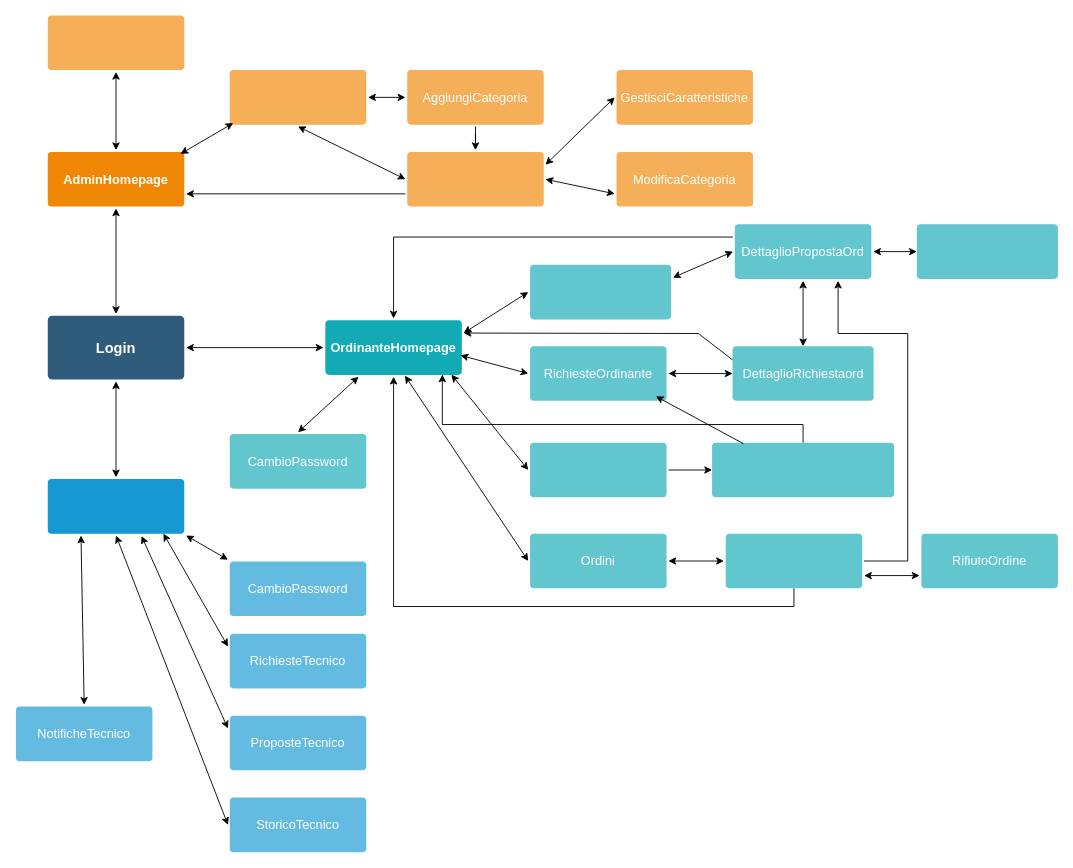
The diagram is 1073 pixels wide and 868 high, and some of its shapes have lost their labels. The shapes that lost their labels are listed below. From the top down, each one's box as (x1, y1, x2, y2) in pixels, then its label:
(47, 15, 184, 70): GestioneUtenti
(229, 70, 366, 124): GestioneCategorie
(407, 152, 543, 206): CategoriaController
(916, 224, 1057, 278): MotivaRifiuto
(530, 264, 671, 319): ProposteOrdinante
(530, 442, 666, 497): NuovaRichiesta
(712, 442, 894, 497): NuovaRichiestaCaratteristiche
(47, 479, 184, 533): TecnicoHomepage
(725, 533, 862, 588): DettaglioOrdineOrd
